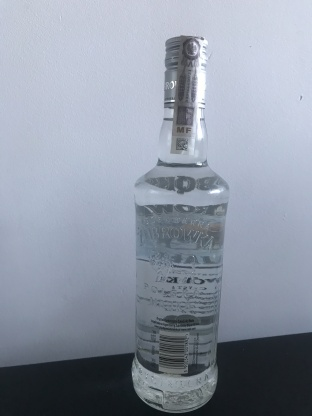nakretka: (161, 32, 210, 112)
